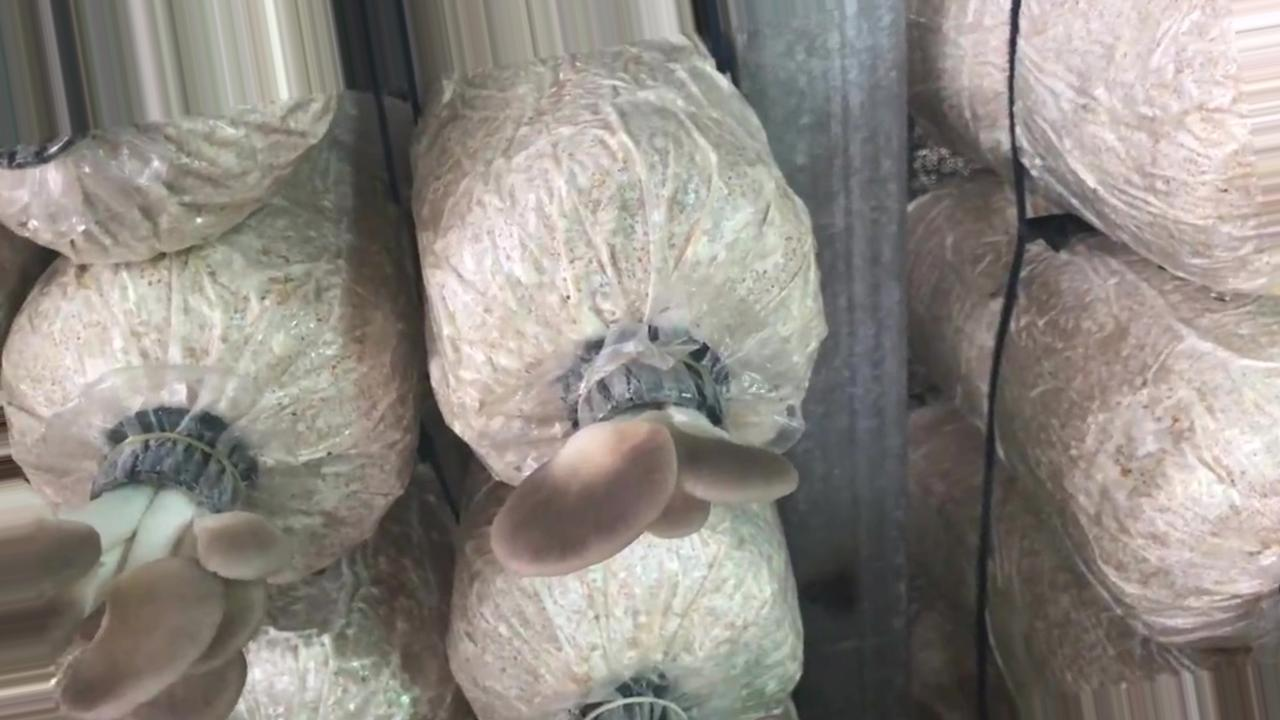nam: (1, 421, 296, 720), (488, 334, 802, 582)
